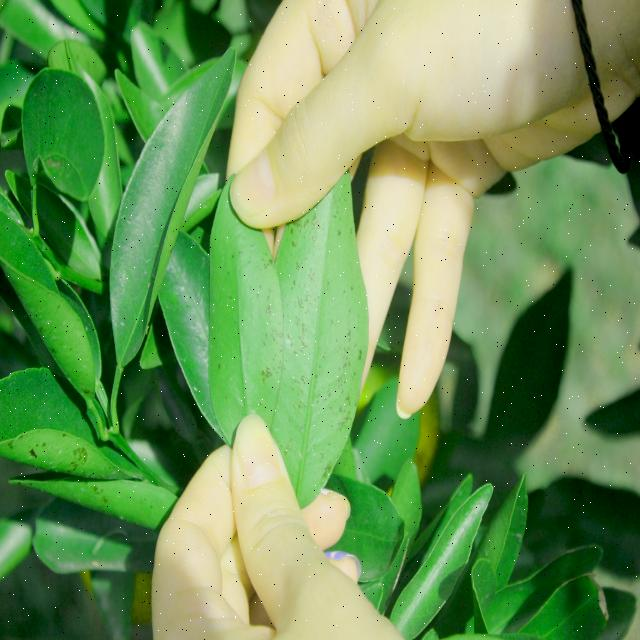melanose: (267, 218, 383, 478), (216, 247, 285, 410)
